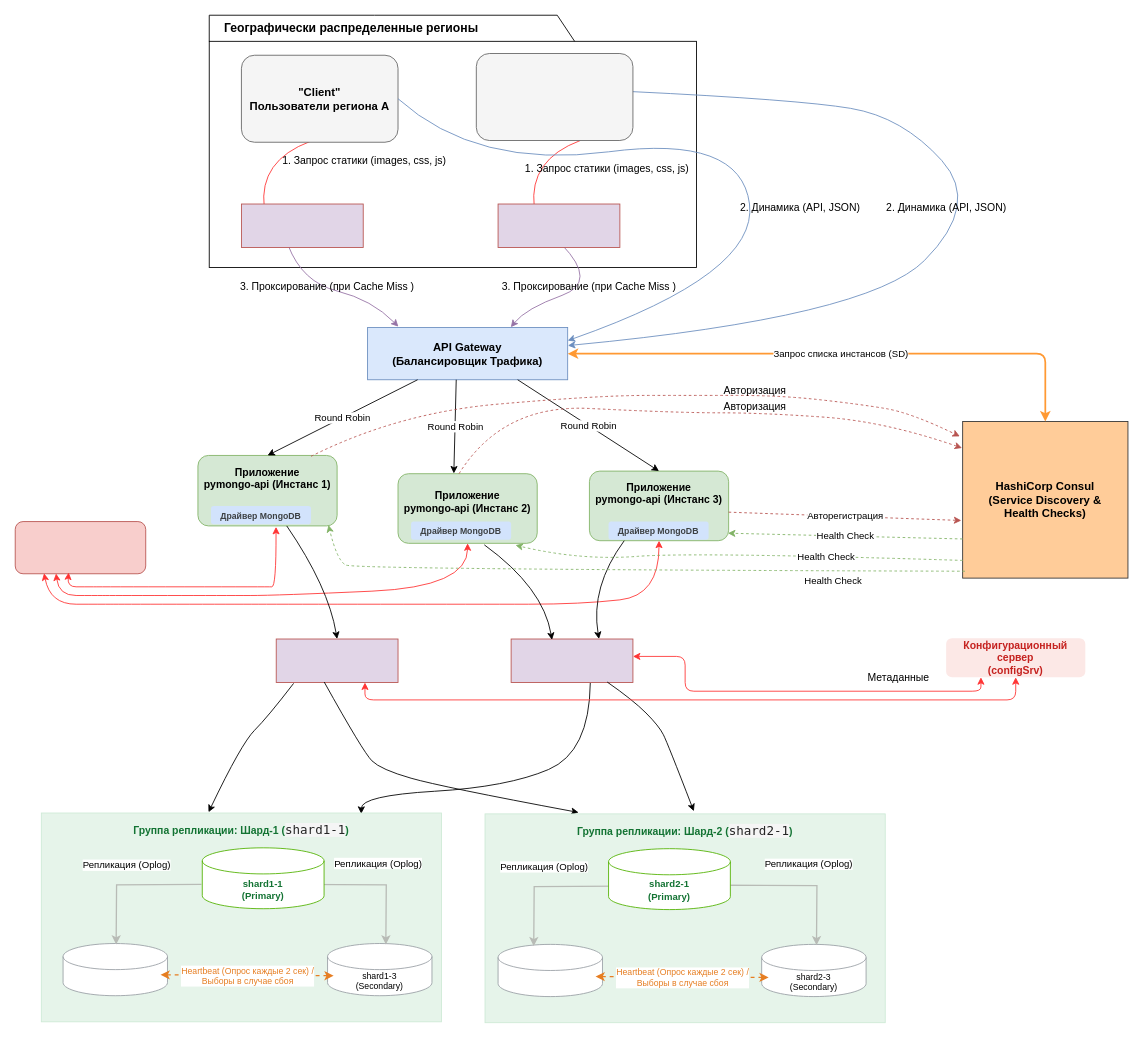
Some shapes in this 1143 by 1038 pixel diagram are drawn without their labels. The shapes that lost their labels are listed below. From the top down, each one's centre as x and y in pixels, then its label:
point 554,97: "Client" Пользователи региона B
point 302,225: CDN CDN Edge Узел (Регион А)
point 558,225: CDN CDN Edge Узел (Регион B)
point 80,547: Кэш данных: Redis (redis)
point 336,660: Роутер 1 (mongos-1)
point 571,660: Роутер 2 (mongos-2)
point 114,969: shard1-2 (Secondary)
point 549,970: shard2-2 (Secondary)
